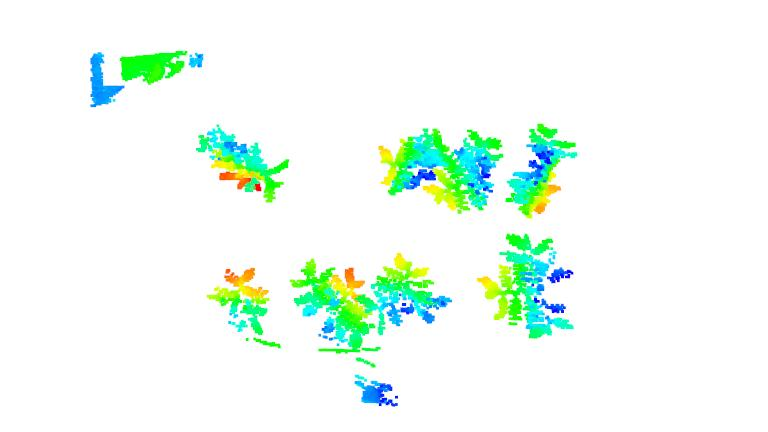chickpea: (477, 233, 575, 339), (291, 261, 378, 350), (362, 252, 453, 333), (501, 123, 578, 218), (198, 126, 291, 202), (425, 129, 502, 214), (374, 129, 446, 193), (207, 267, 268, 337)
